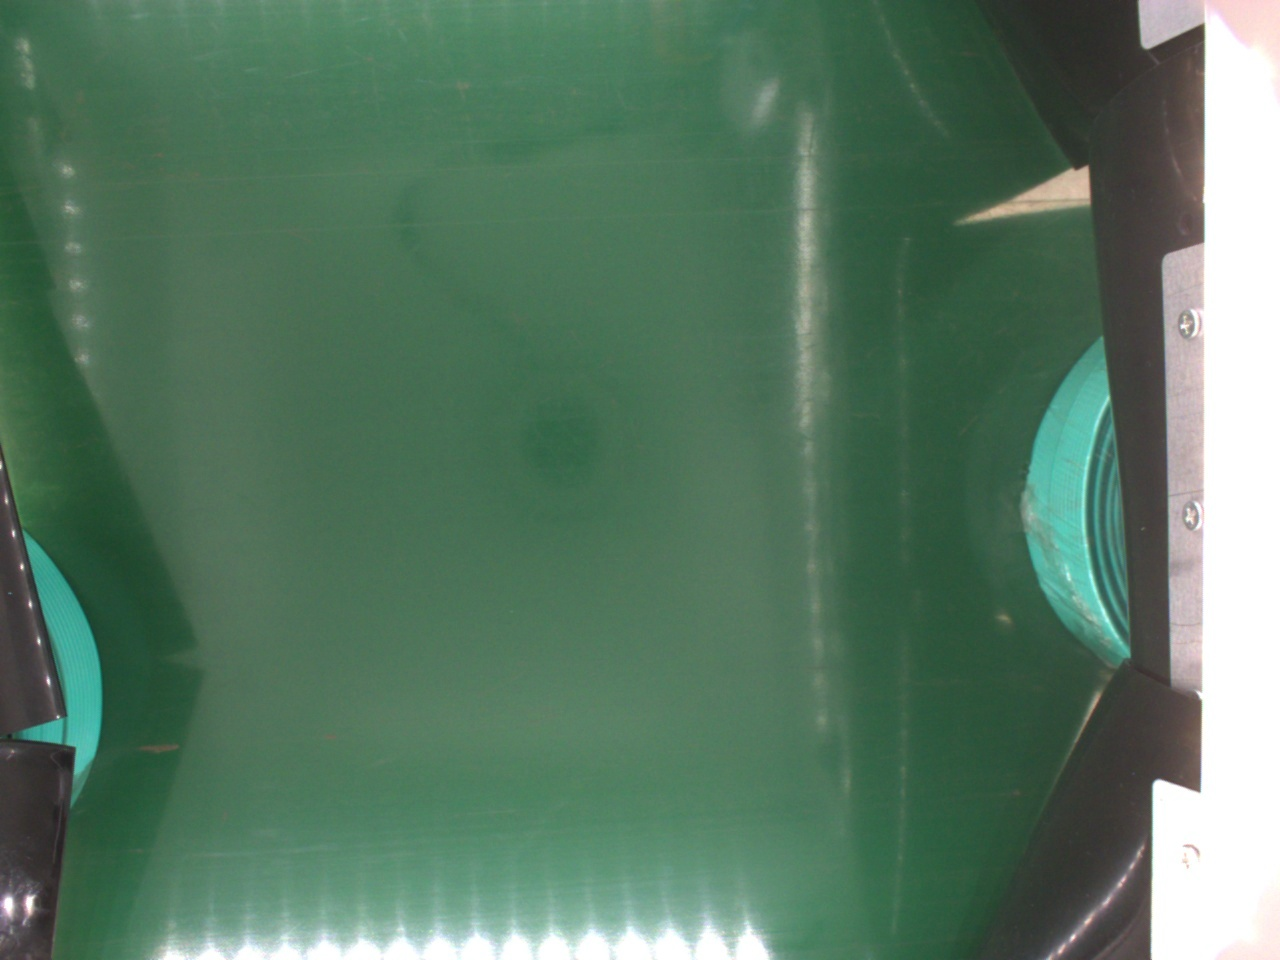green: (1021, 338, 1133, 663)
